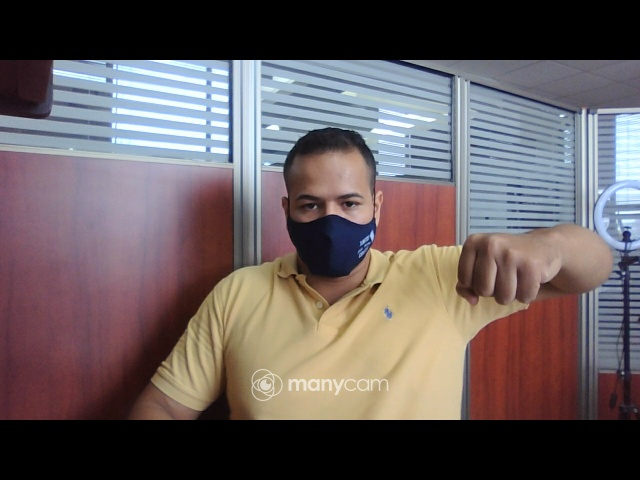Yes: (455, 230, 555, 321)
